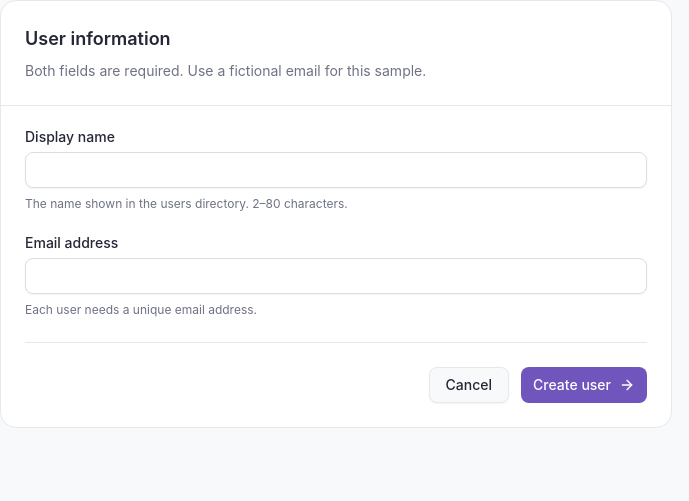
Scenario: users interface › validates forms before making a request
Type "A" into the field labelled "Display name" at (336, 170), box [25,152,647,188]
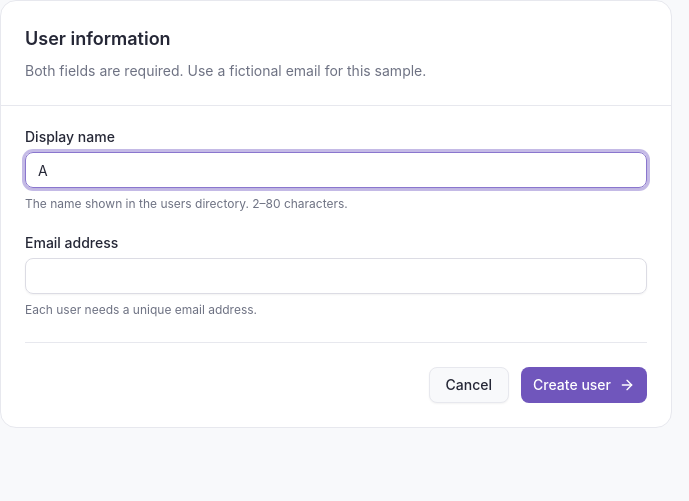
Type "bad" into the field labelled "Email address" at (336, 276), box [25,258,647,294]
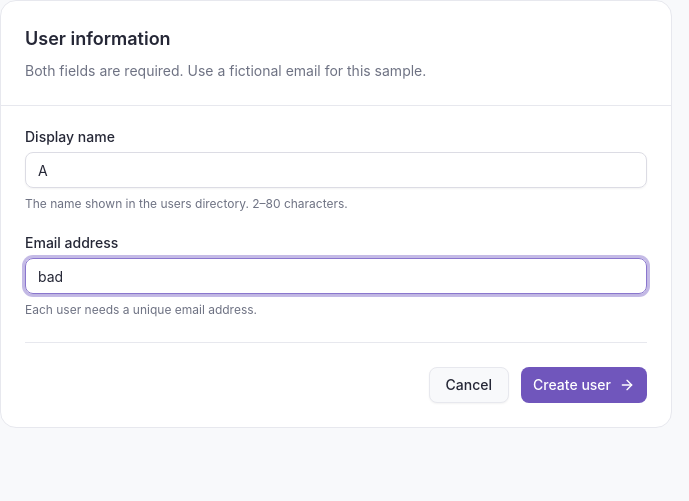
Click the button "Create user" at (584, 385), box [521,367,647,403]
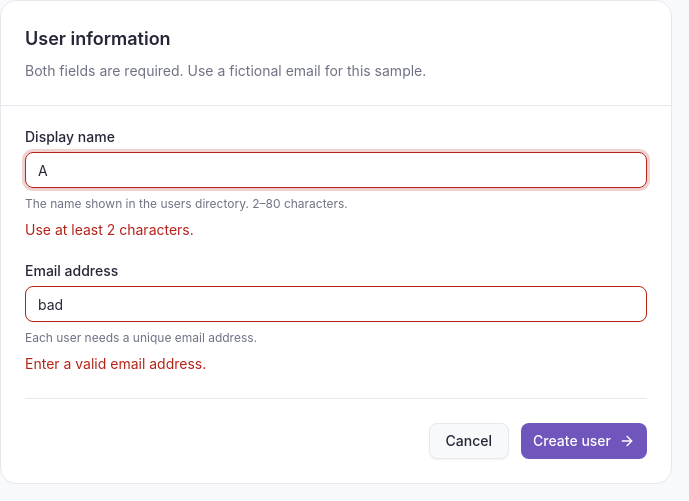
Expected: the text "Use at least 2 characters." is shown, [25,221,194,238]
Expected: the text "Enter a valid email address." is shown, [25,355,206,372]
